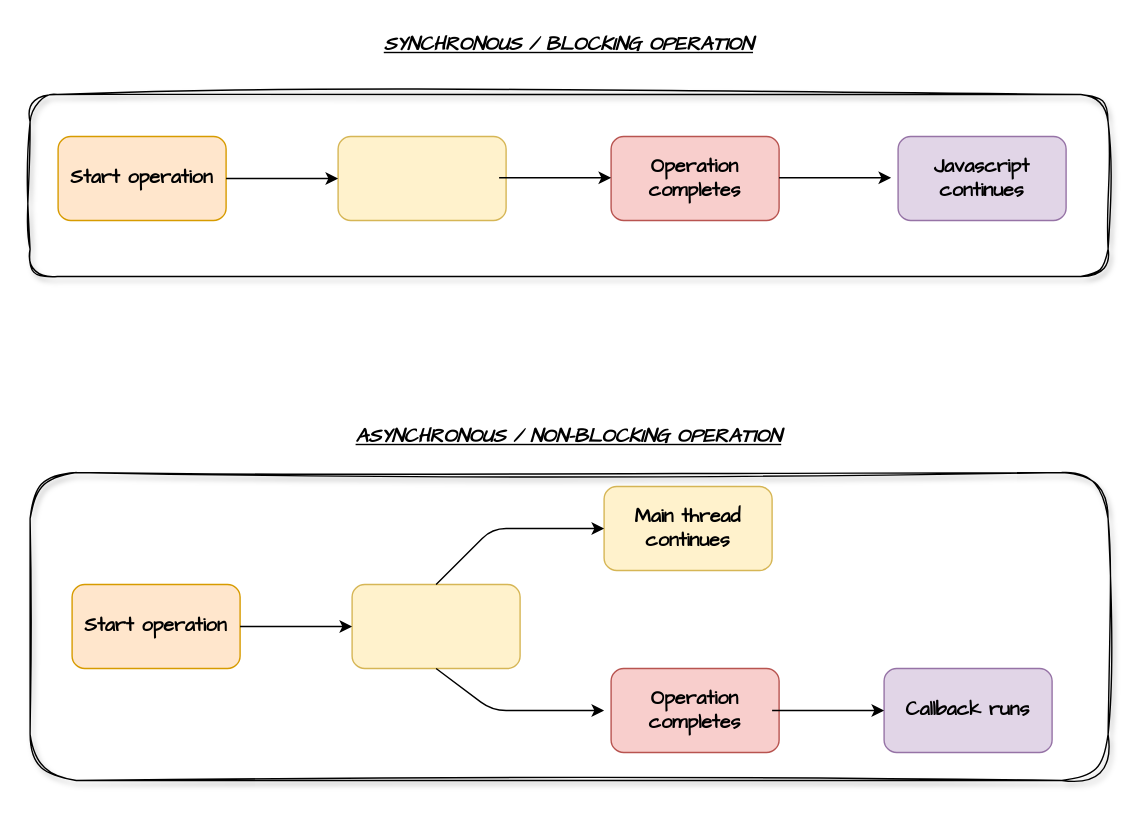
Some shapes in this 1141 by 815 pixel diagram are drawn without their labels. Each missing label, with the centre of its shape:
"Delegate work" goes at (x=435, y=625).
"Main thread waits" goes at (x=421, y=177).
